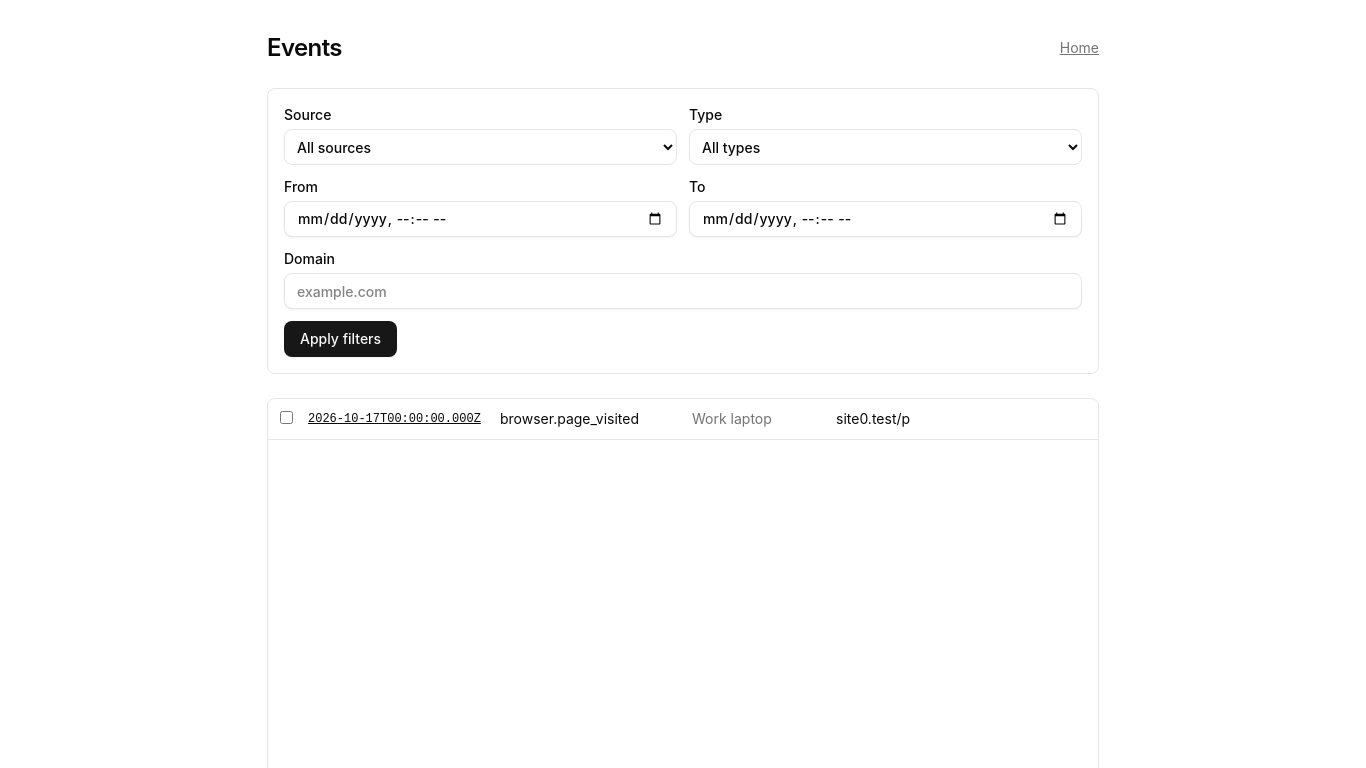
Test case: events page › why is this here › says so when the rules changed since, or the rule is gone
Click the button named "open event 1" at (394, 419), box [308, 411, 481, 427]
(page scrolled)
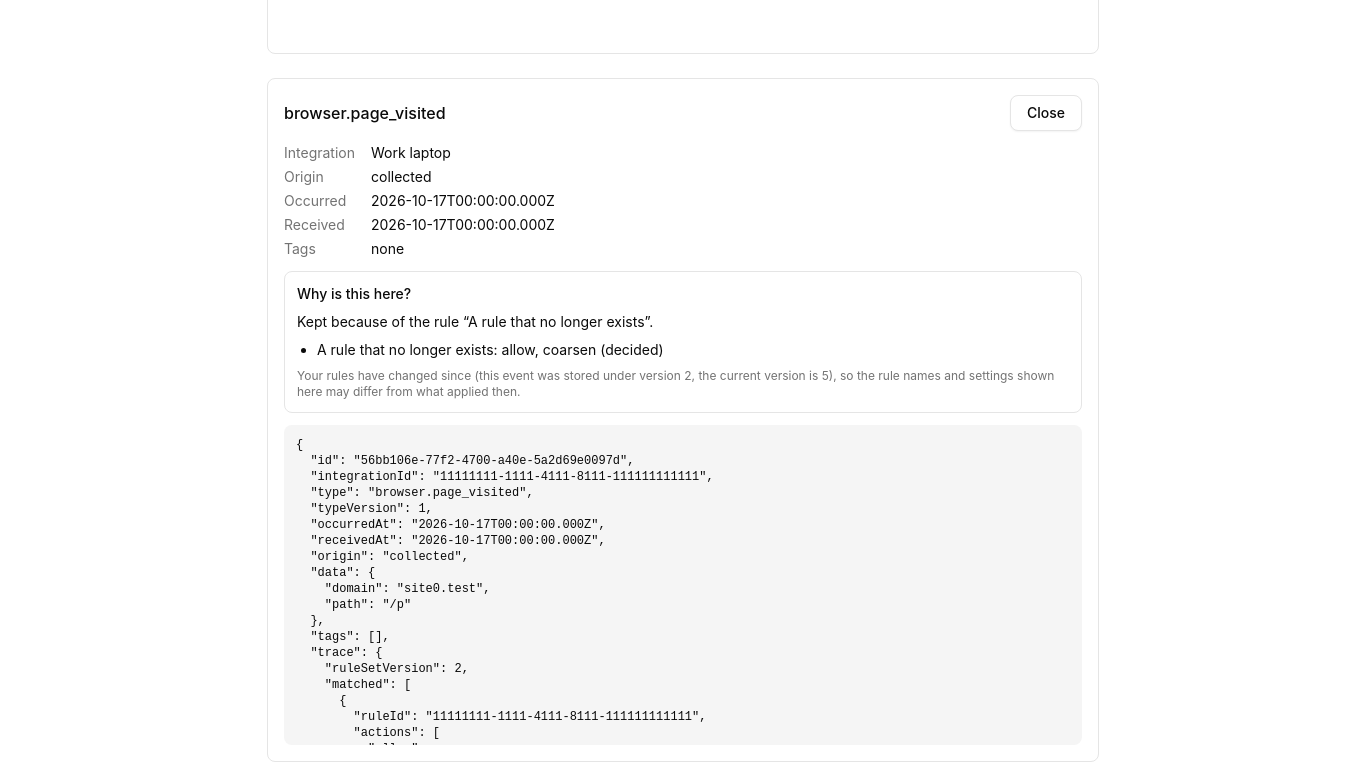
Now the text "Kept because of the rule “A rule that no longer exists”." is shown, box [297, 313, 653, 330]
Now the text "rules have changed since" is shown, box [297, 368, 1054, 399]
